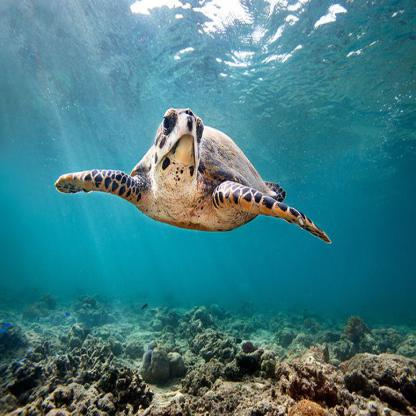turtle: (150, 99, 208, 201)
